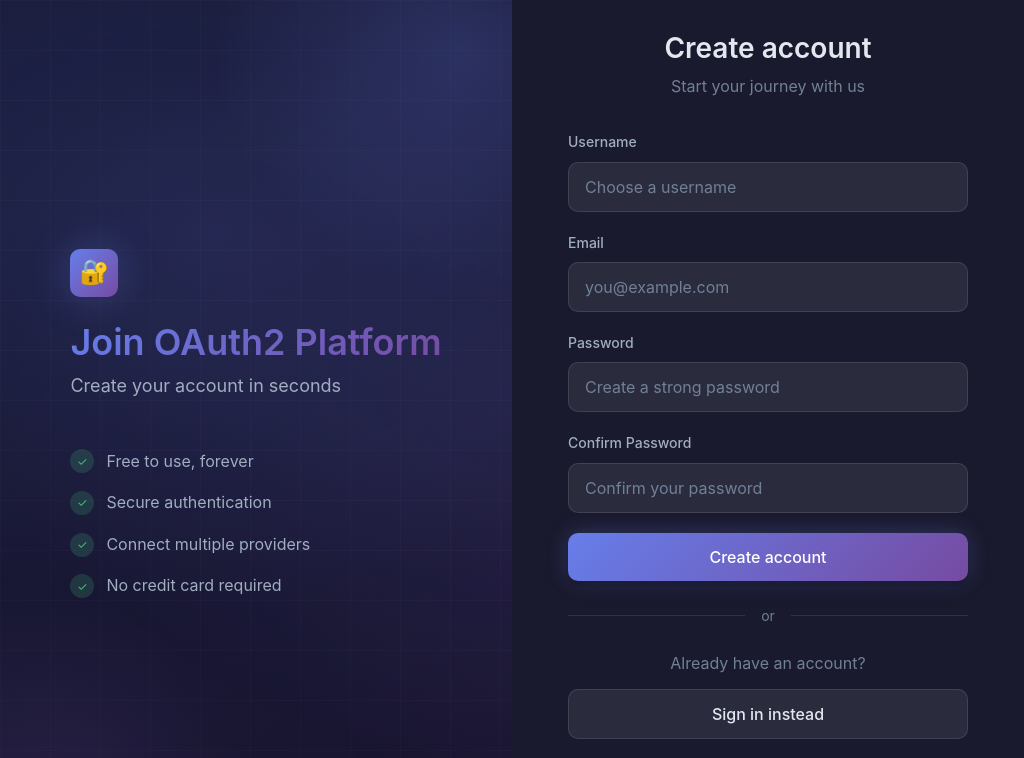
Test: Register.vue › shows error on password mismatch
Fill required fields first
Type "newuser" into the field with placeholder "Choose a username" at (768, 187), box [568,162,968,212]
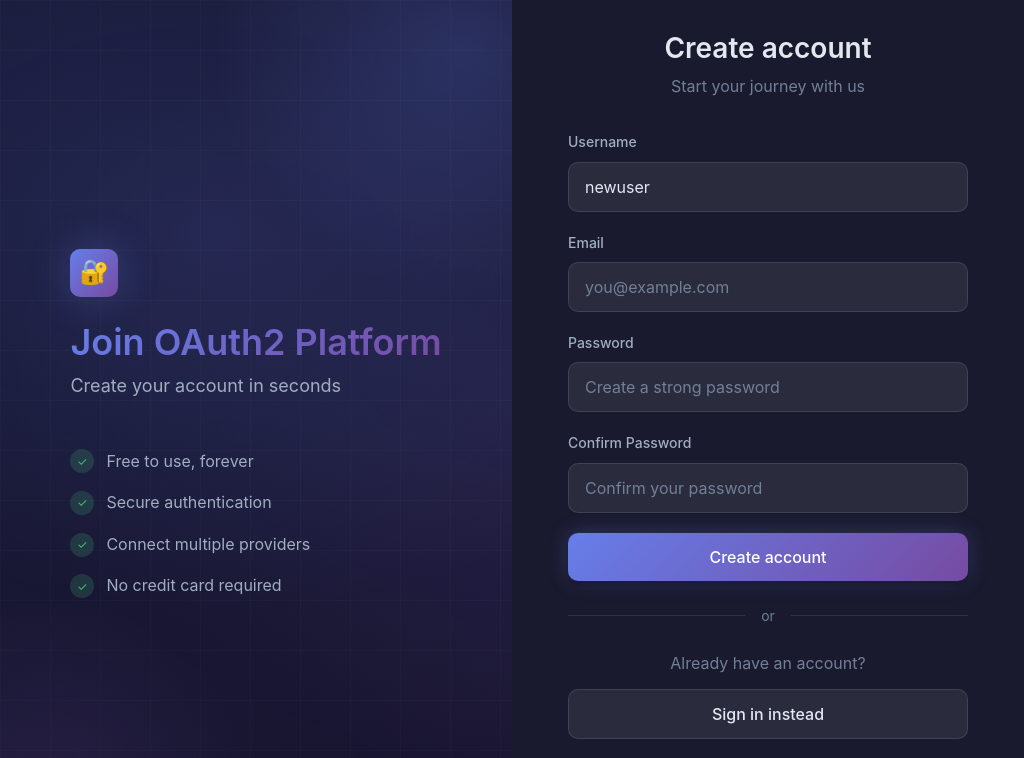
Type "test@test.com" into the field with placeholder "you@example.com" at (768, 287), box [568,262,968,312]
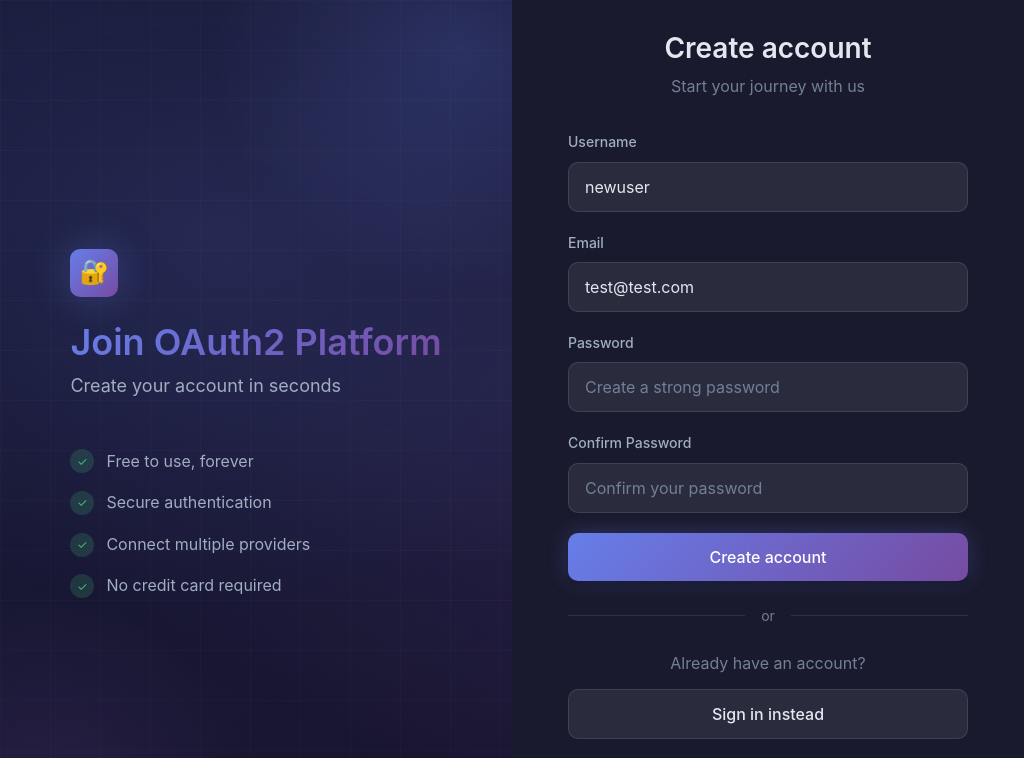
Fill passwords with mismatch
Type "pass123" into the password field with placeholder "Create a strong password" at (768, 387), box [568,362,968,412]
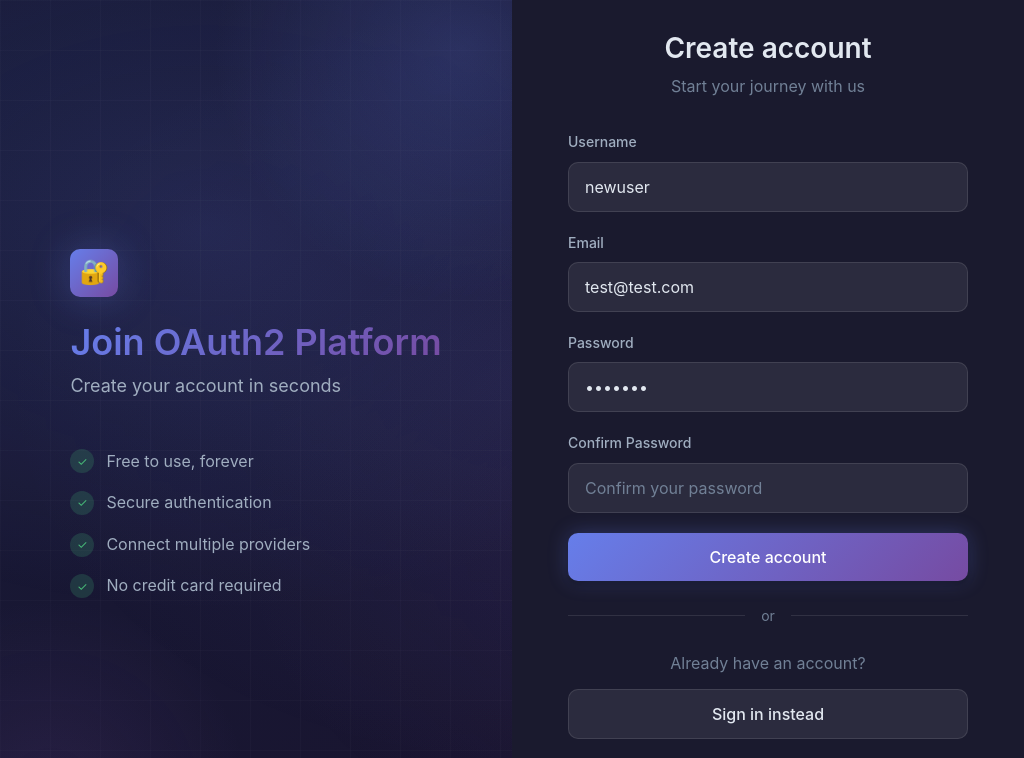
Type "pass456" into the password field with placeholder "Confirm your password" at (768, 488), box [568,463,968,513]
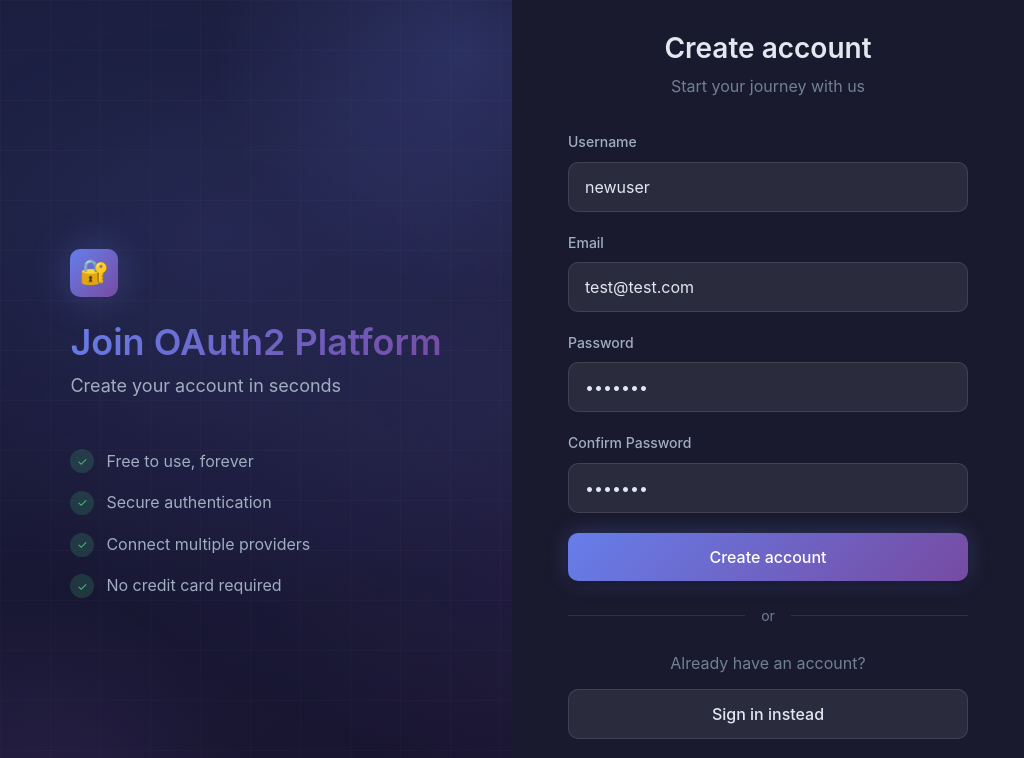
Submit the form, box [568,131,968,581]
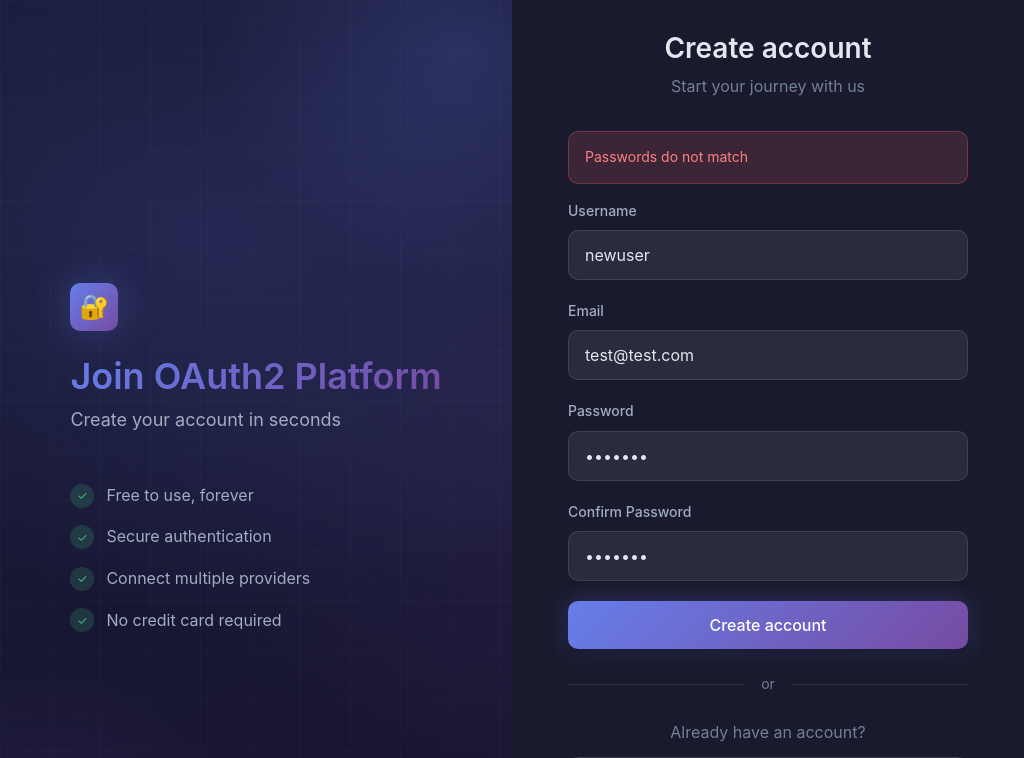
Result: the text "Passwords do not match" is shown at [568,131,968,184]
